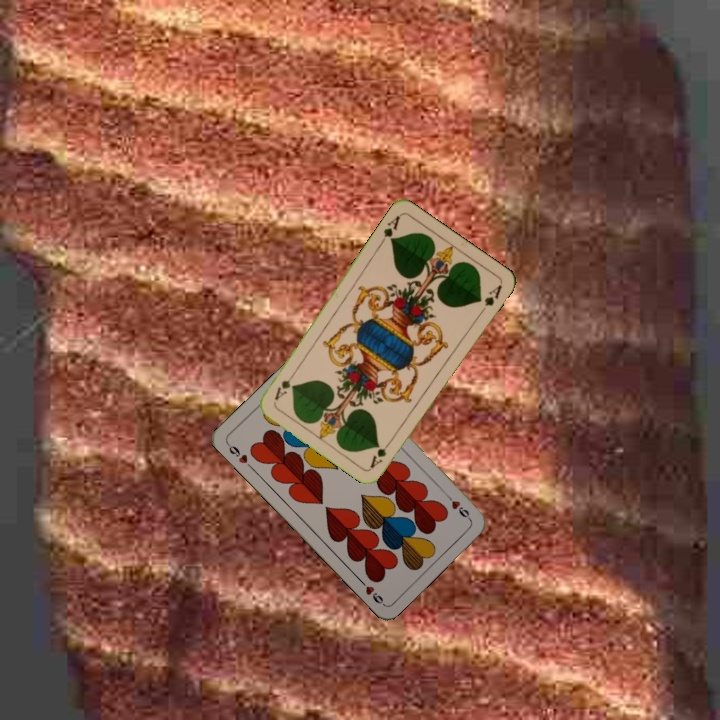GA: (366, 435, 395, 471), (376, 211, 403, 248)
H9: (223, 439, 255, 471), (442, 490, 473, 523)
